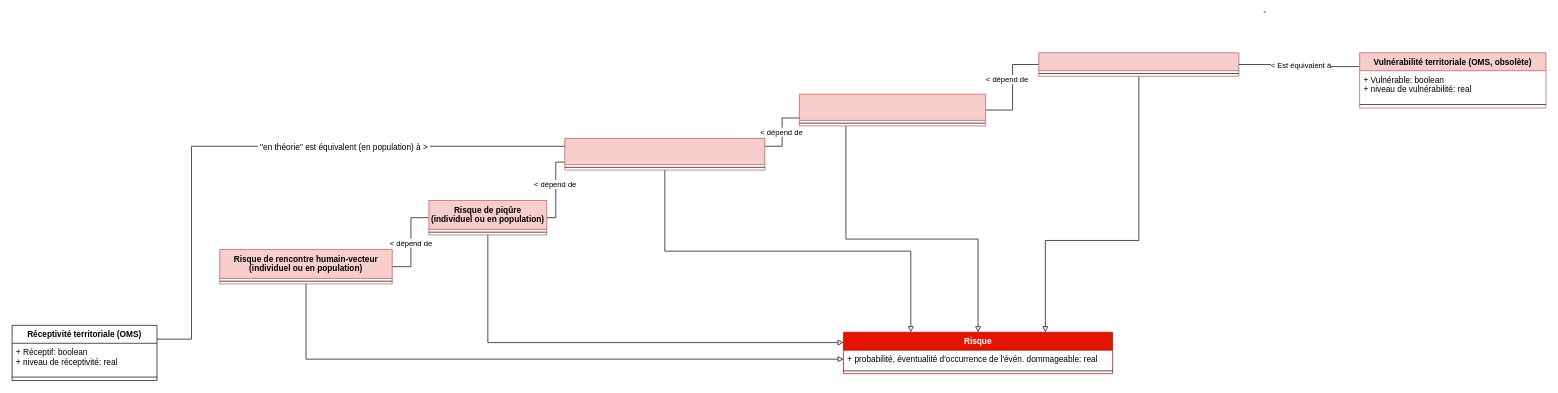
The diagram is 1558 pixels wide and 393 high, and some of its shapes have lost their labels. Here are the shapes that lost their labels. From the top down, the centre of each, then its label:
[1138,64]: Risque de (ré-)introduction du paludisme
[892,109]: Risque de cas autochtone de paludisme (individuel ou en population)
[664,154]: Risque de piqûre infectante (de transmission) (individuel ou en population)
